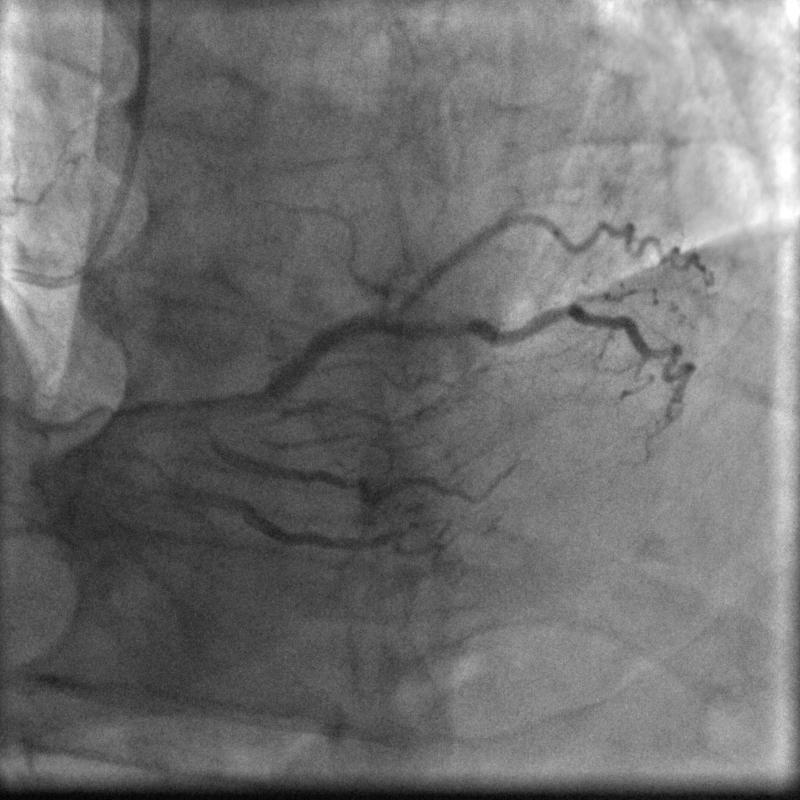Stenosis: (415, 307, 480, 342)
